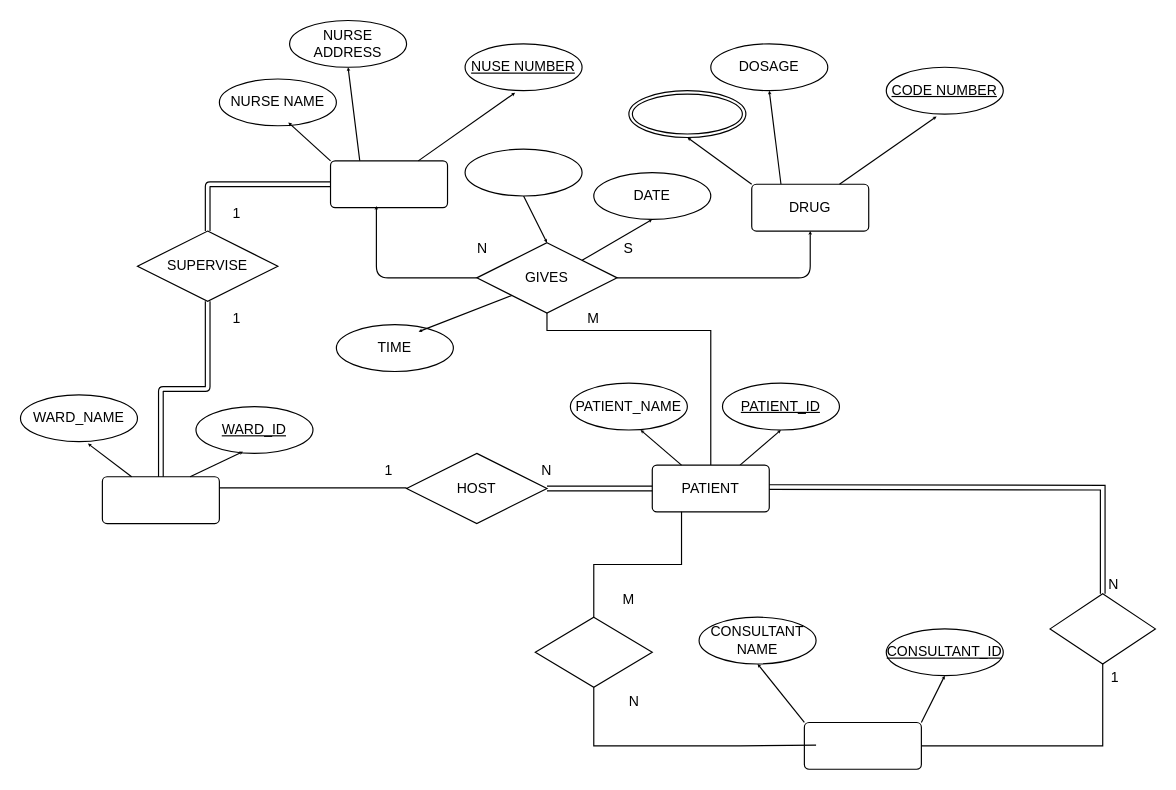
The diagram is 1176 pixels wide and 790 high, and some of its shapes have lost their labels. Here are the shapes that lost their labels. From the top down, the centre of each, then its label:
At (687,113): "BRAND".
At (388,184): "NURSE".
At (523,172): "RECOMMENDED DOSAGE".
At (160,500): "WARD".
At (1102,628): "ASSIGN".
At (593,651): "EXAMINE".
At (862,745): "CONSULTANT".
